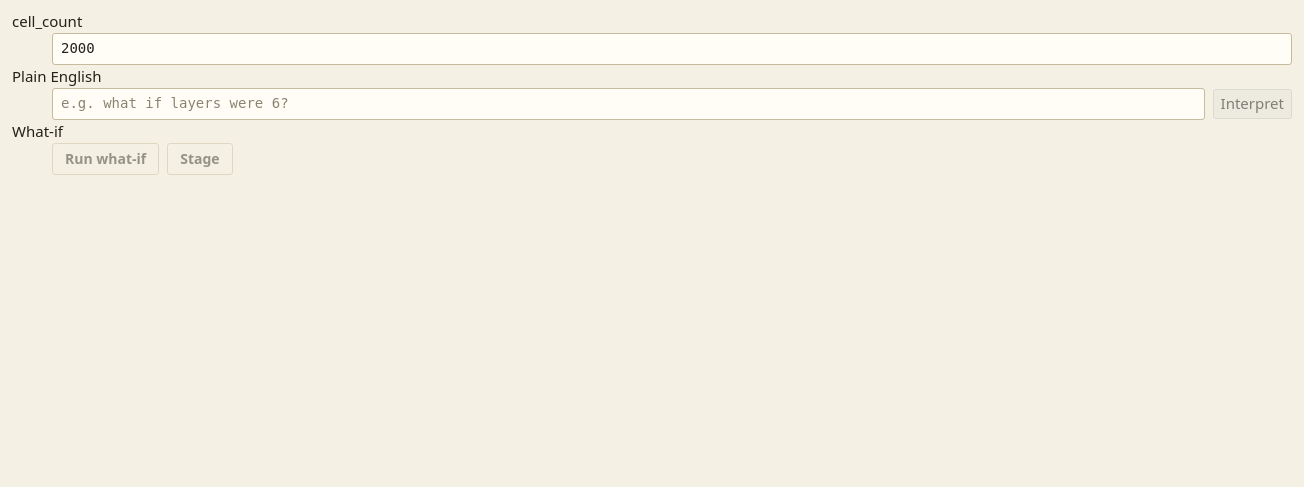
WhatIfEditor › accumulates past runs for comparison
The image size is (1304, 487).
Replace the text in the field named "cell_count" with "5000" at (672, 49), box x1=52 y1=33 x2=1292 y2=65
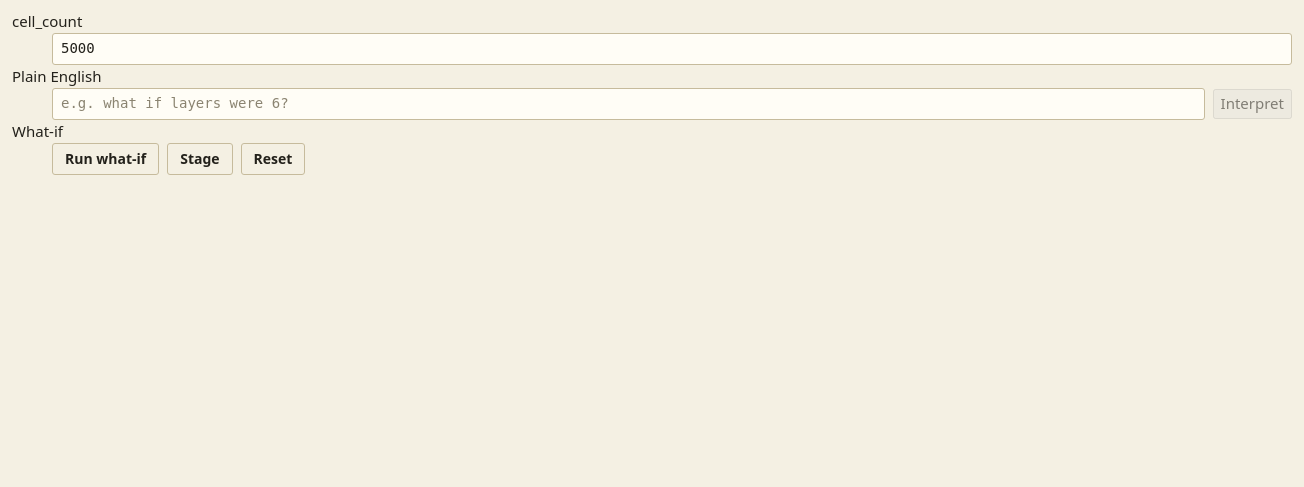
Click the button "Run what-if" at (106, 159), box x1=52 y1=143 x2=159 y2=175
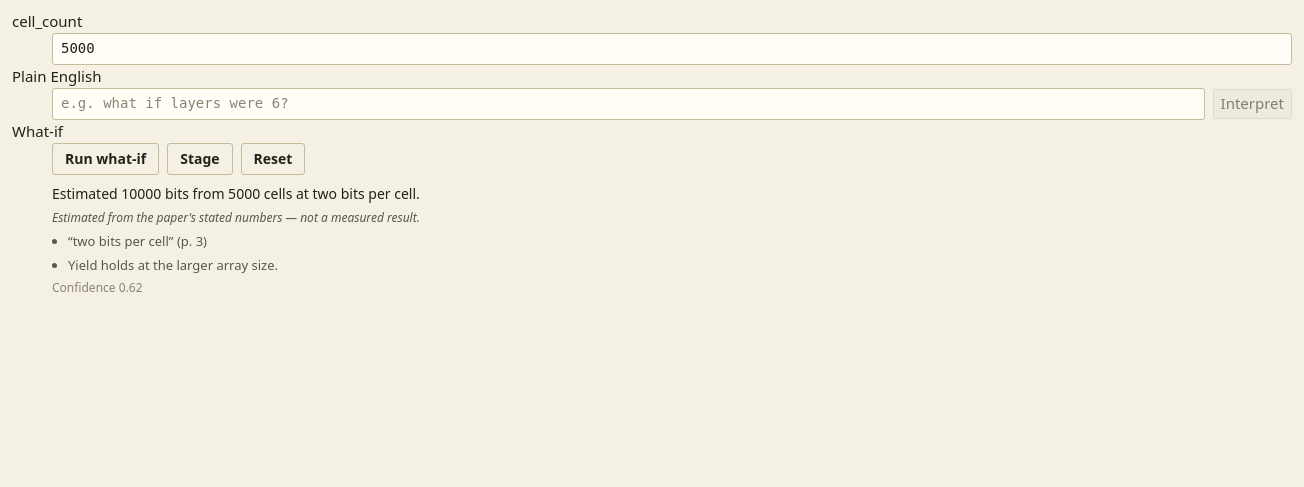
Expected: the text "Past runs this session" is not shown
Now the text "Estimated 10000 bits from 5000 cells at two bits per cell." is shown, box x1=52 y1=184 x2=420 y2=203
Replace the text in the field named "cell_count" with "6000" at (672, 49), box x1=52 y1=33 x2=1292 y2=65
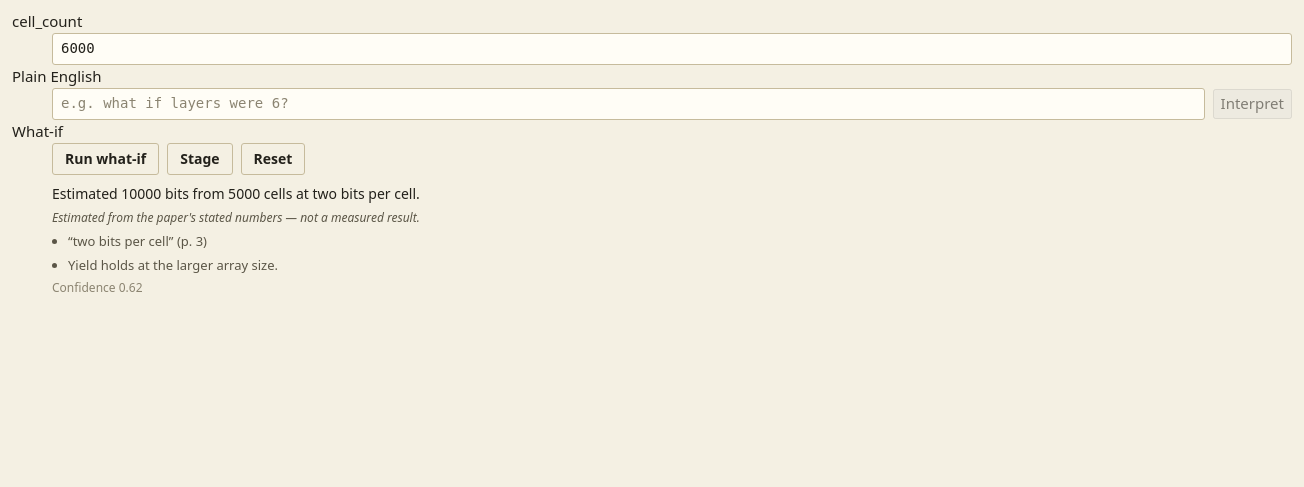
Click the button "Run what-if" at (106, 159), box x1=52 y1=143 x2=159 y2=175
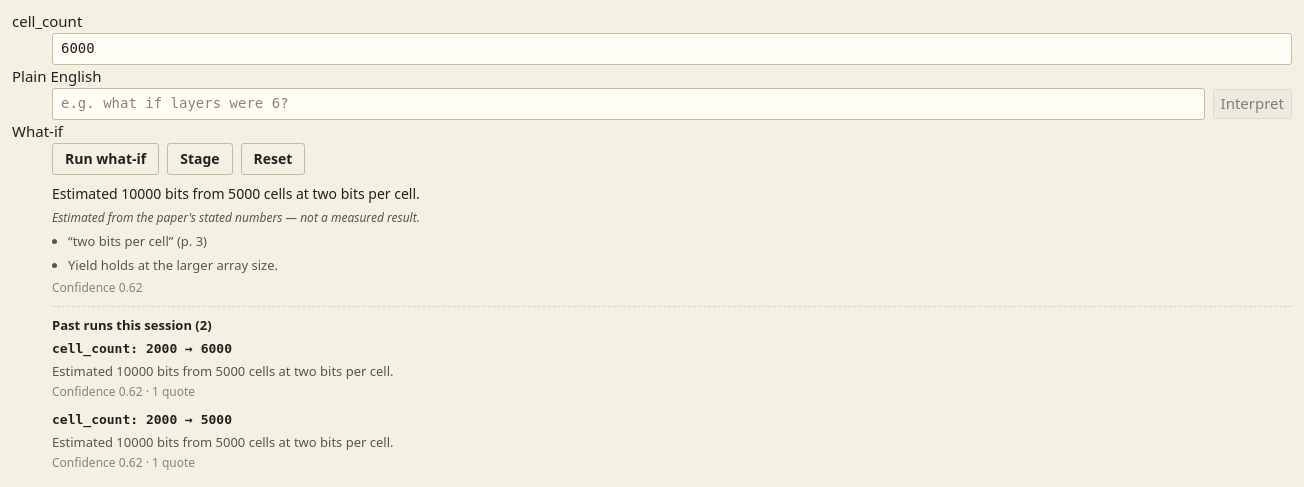
Now the text "Past runs this session (2)" is shown, box x1=52 y1=316 x2=212 y2=334
Now the text "cell_count: 2000 → 5000" is shown, box x1=52 y1=412 x2=232 y2=427
Now the text "cell_count: 2000 → 6000" is shown, box x1=52 y1=341 x2=232 y2=356
